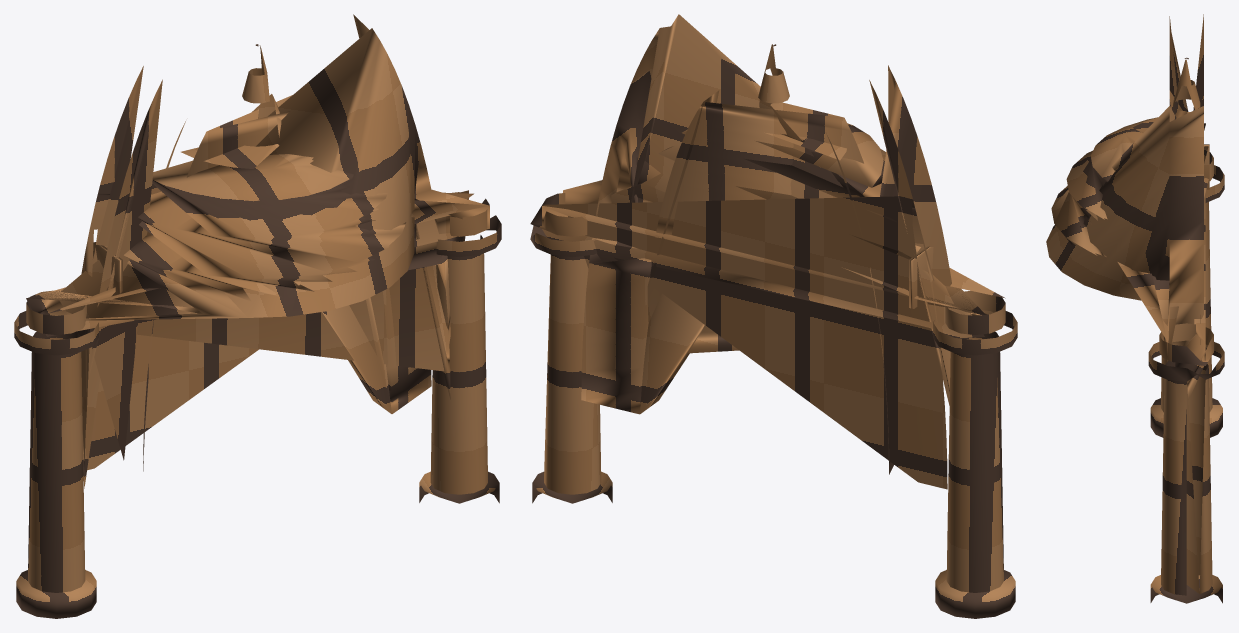
File: SM_Landmark_DomeGate_A.obj
3 renders of one model, left to right at view 1: azimuth 30°, elevation 25°; view 2: azimuth 150°, elevation 25°; view 3: azimuth 270°, elevation 25°, orthographic. The views are drawn at different scales.
Visible parts, largest first — view 1: Dome, Stone, Arch, Spire; view 2: Stone, Dome, Arch, Spire; view 3: Dome, Stone, Spire.
Boxes of the visible parts, <box> form: Dome: <box>26,14,489,399</box>; Stone: <box>14,66,501,618</box>; Arch: <box>187,95,431,413</box>; Spire: <box>93,44,281,294</box>; Stone: <box>530,65,1017,618</box>; Dome: <box>542,14,1005,353</box>; Arch: <box>581,90,863,414</box>; Spire: <box>758,44,933,308</box>; Dome: <box>1046,106,1208,399</box>; Stone: <box>1148,14,1224,603</box>; Spire: <box>1133,57,1209,189</box>.
Size of the model in its own units: 13 by 13.25 by 4.69.
Materials: 1 (1 with a texture image).
